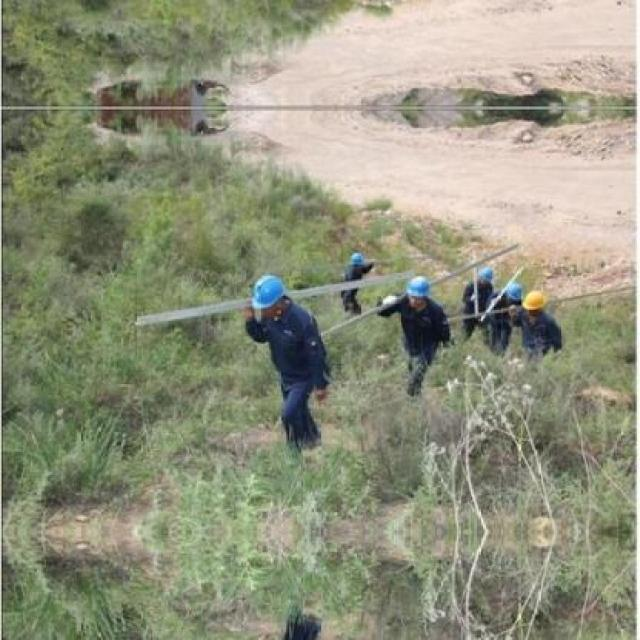helmet: (249, 272, 289, 316), (522, 284, 552, 318), (406, 274, 431, 304), (472, 264, 497, 287), (502, 279, 526, 302), (346, 248, 366, 272)
